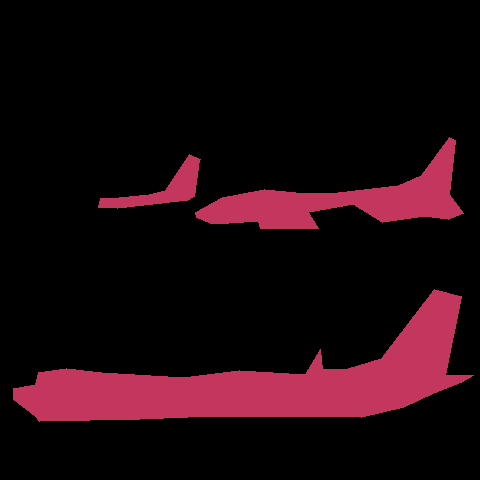Airplane: (13, 289, 473, 421), (195, 137, 464, 229), (98, 154, 201, 208)
